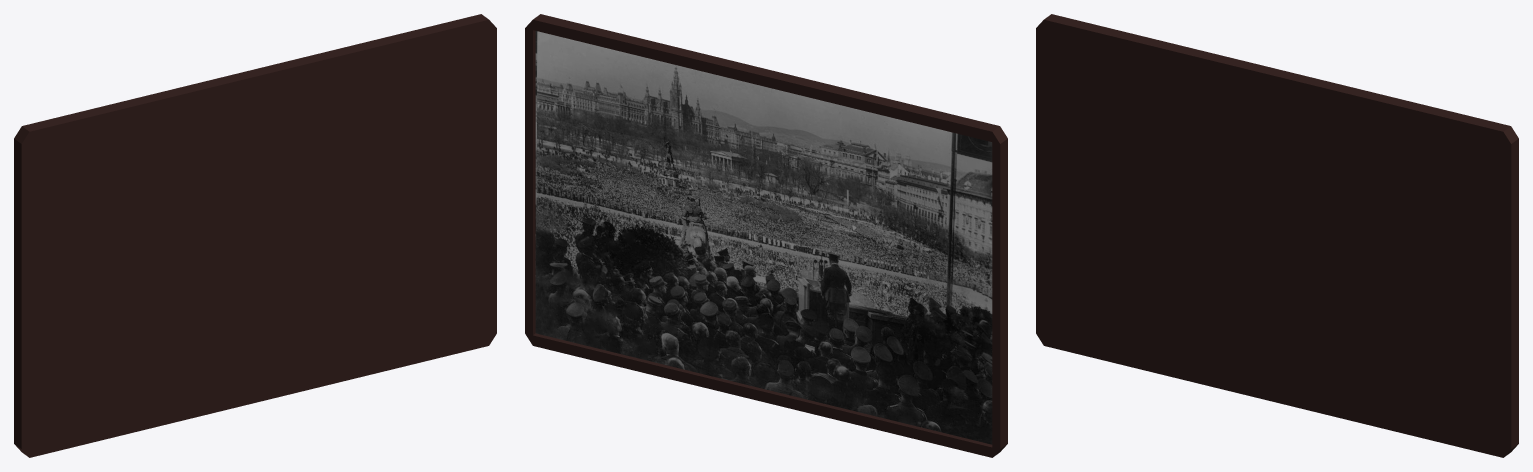
File: painting_german_2.fbx
3 renders of one model, left to right at view 1: azimuth 30°, elevation 25°; view 2: azimuth 150°, elevation 25°; view 3: azimuth 330°, elevation 25°, orthographic.
Parts seen in each view (by area): view 1: painting german 1; view 2: painting german 1; view 3: painting german 1.
Boxes of the visible parts, box(x1,y1,x2,y2) form: painting german 1: box(14, 14, 496, 457); painting german 1: box(525, 14, 1007, 457); painting german 1: box(1036, 14, 1518, 457).
Size of the model in its own units: 389 by 255 by 10.96.
Materials: 2 (1 with a texture image).
